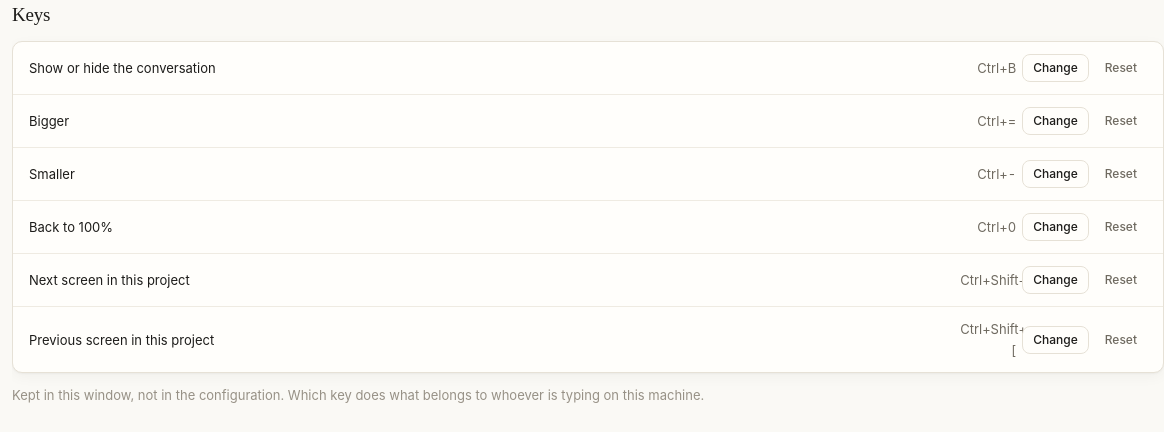
Test: KeysPanel › stops listening when you press escape
Click the button "Change" next to "Ctrl+B": [1055, 68] box [1022, 54, 1089, 82]
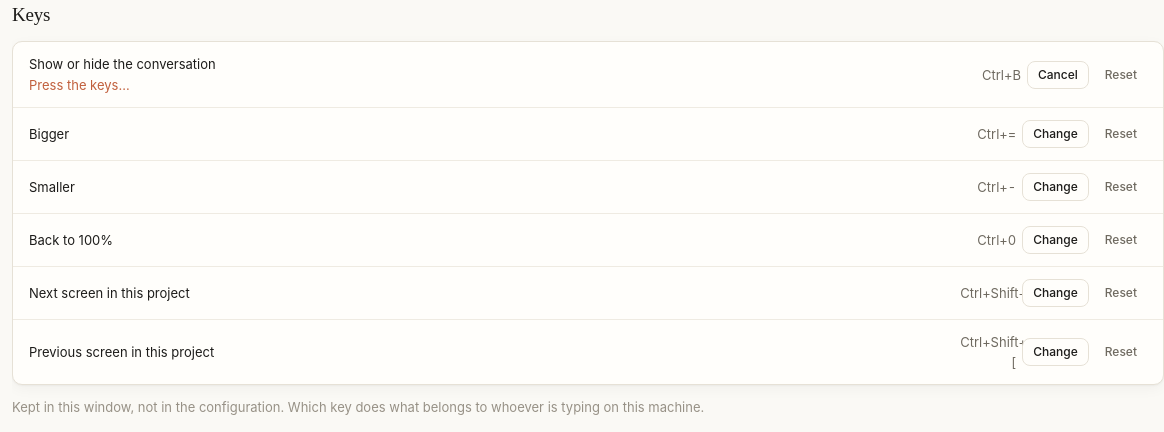
Press Escape
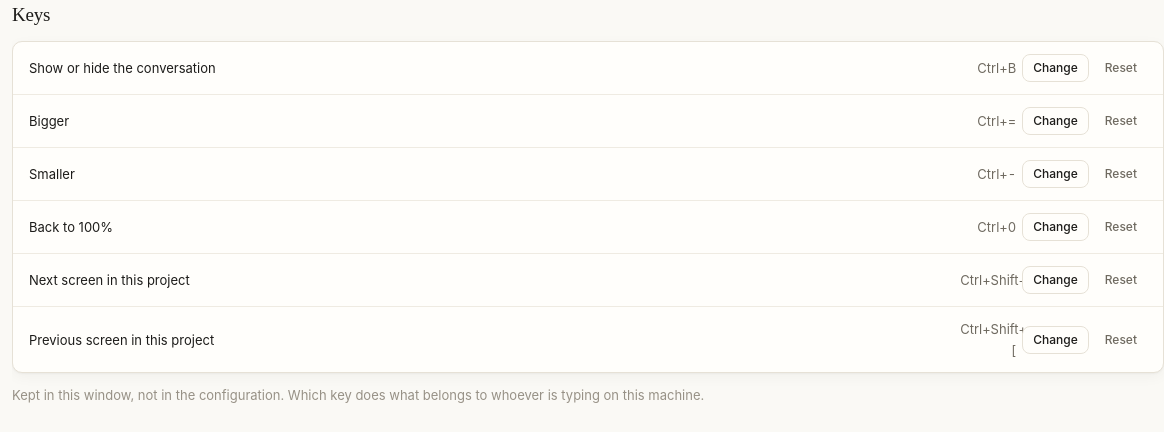
expect the text "Press the keys…" is gone: met
